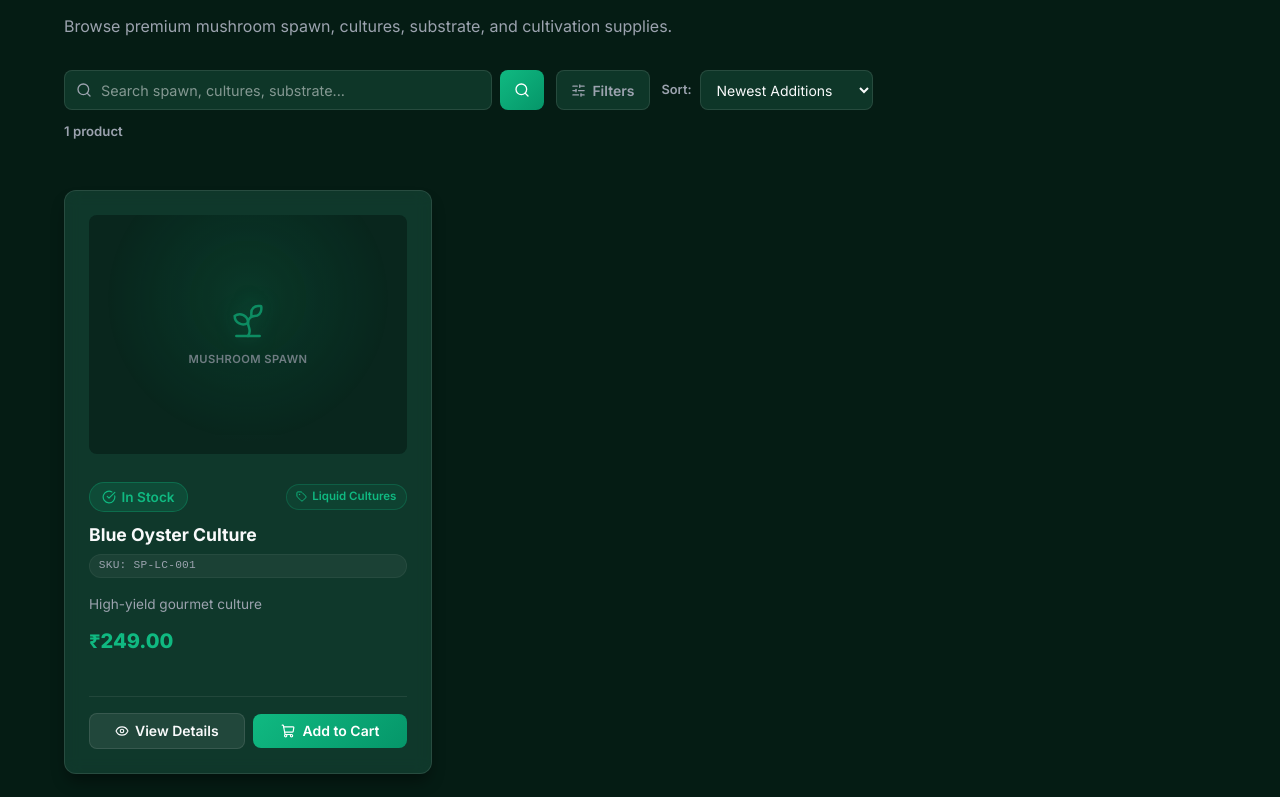
Test: Product Purchase Integration Flow (FD-10) › navigates catalog → product detail → quantity → add to cart → cart sync
The image size is (1280, 797).
(page scrolled)
Expected: the element with test id "products-grid" is shown, [64,190,432,774]
Expected: the heading "Blue Oyster Culture" is shown, [89,524,257,545]
# Navigate to the product detail page.
Click the link "View Details" at (167, 731), box [89,713,245,748]
(page scrolled)
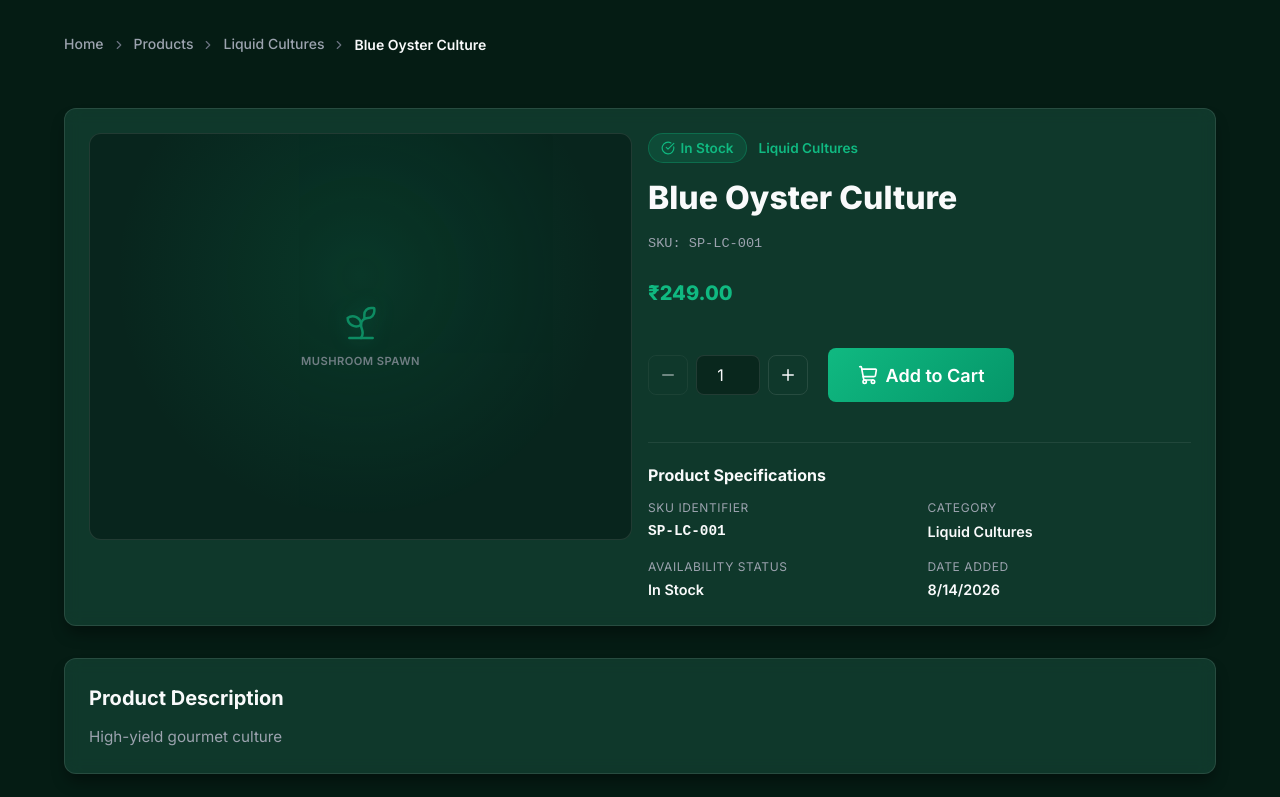
Expected: the text "SKU: SP-LC-001" is shown, [648,236,762,251]
Now the element with test id "product-detail-card" is shown, box [64,108,1216,626]
Now the number field named "Quantity" holds "1", box [696,355,760,395]
Click the button named "Increase quantity" at (788, 375), box [768,355,808,395]
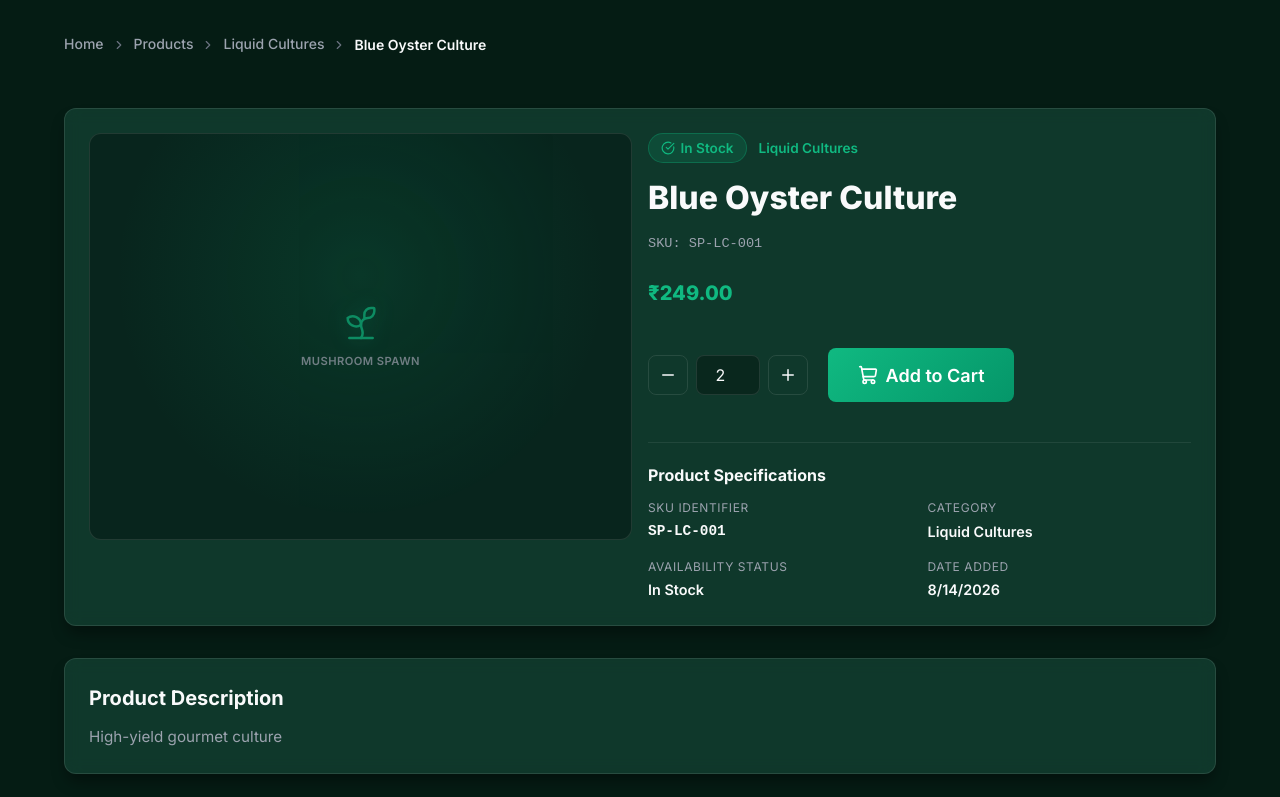
Now the number field named "Quantity" holds "2", box [696,355,760,395]
# Add to cart with the pending loading state and successful API response.
Click the button "Add to Cart" at (921, 375), box [828,348,1014,402]
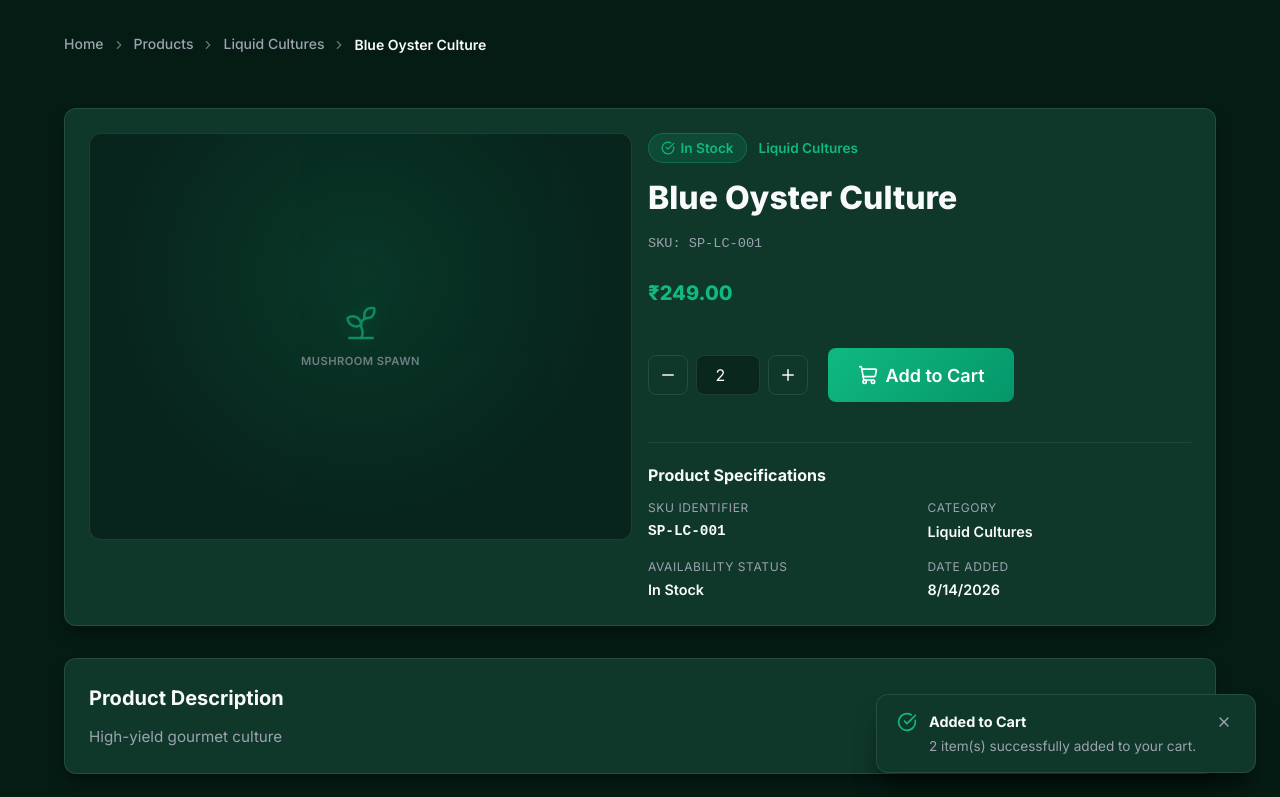
Now the text "Added to Cart" is shown, box [929,713,1026,730]
